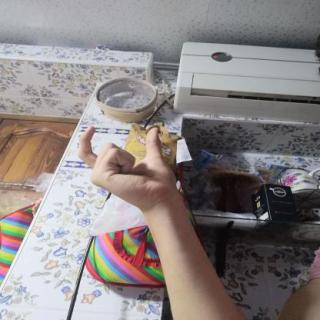NOON: (65, 117, 195, 214)
